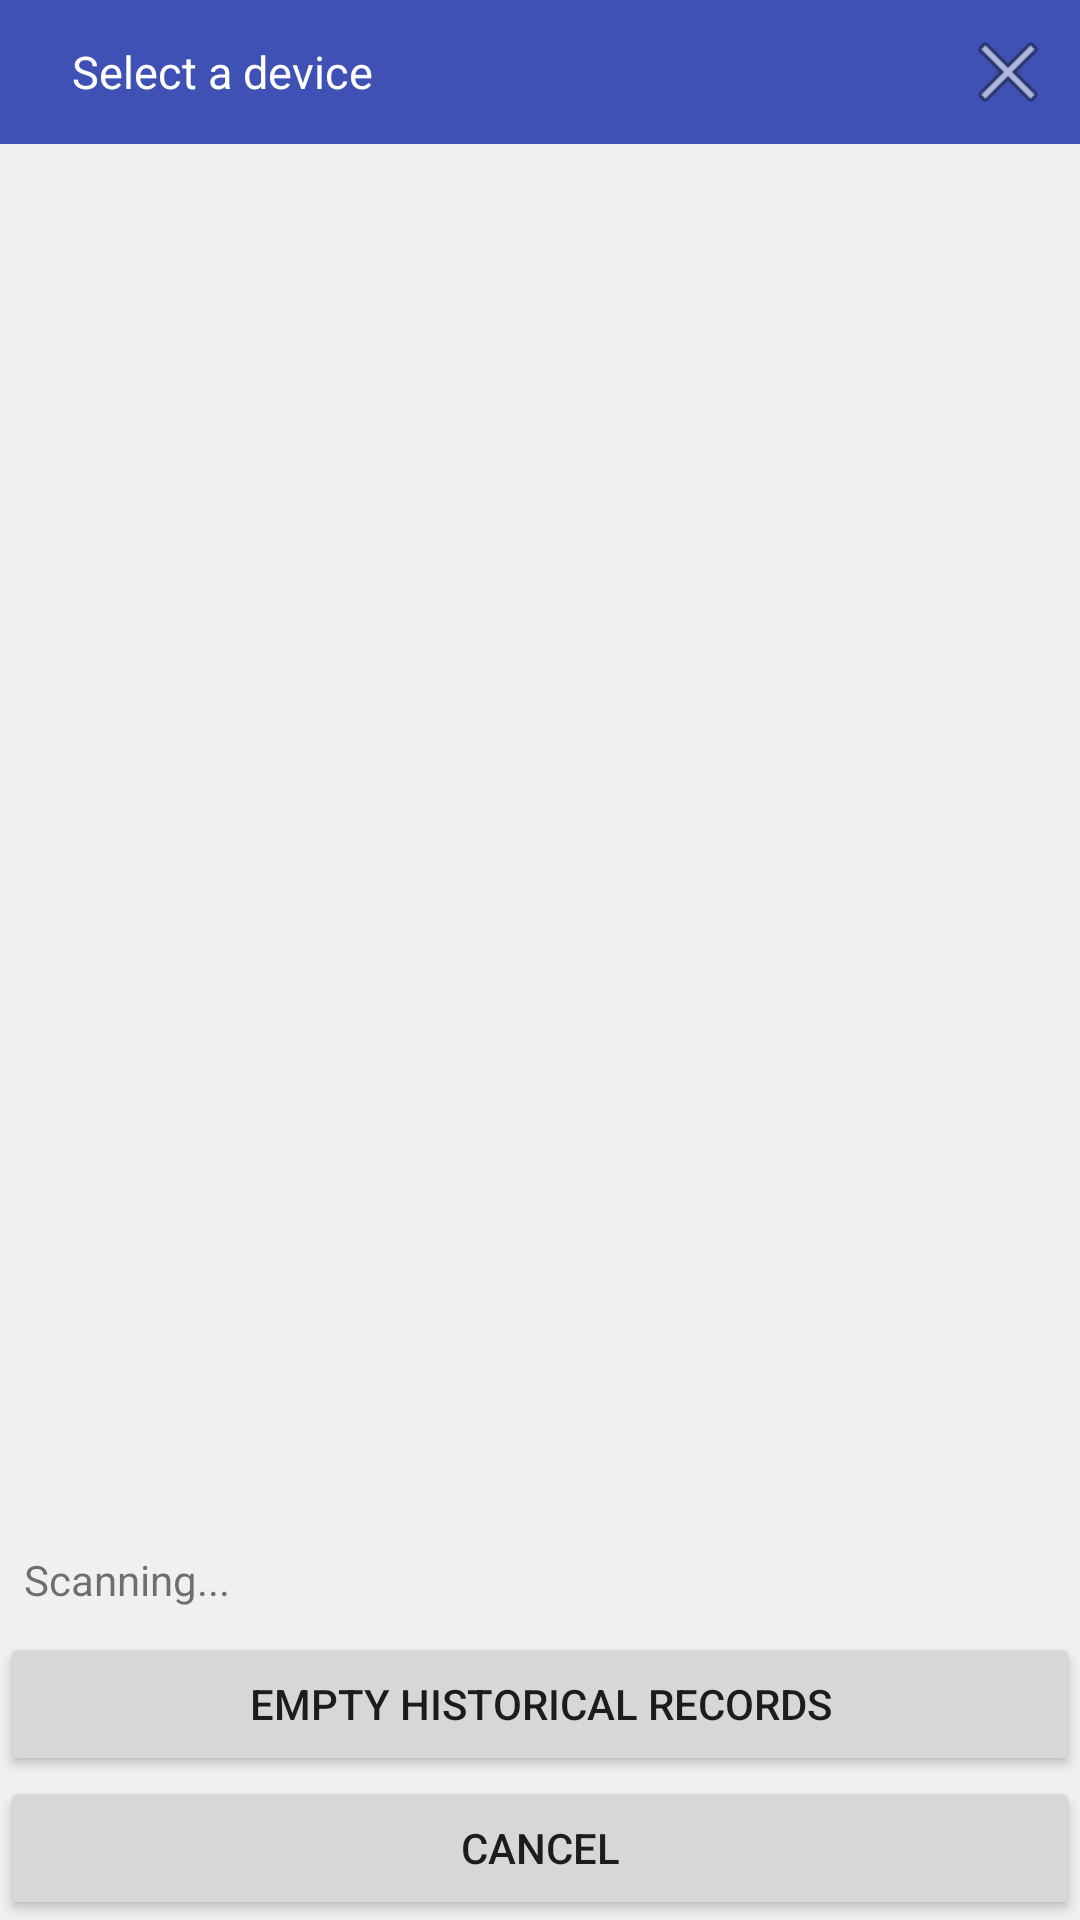

Where icons sit on this 1080px×1920px app screen, as bbox=[x1, y1, x2, y2]:
close clear cancel: bbox=[978, 42, 1038, 102]
